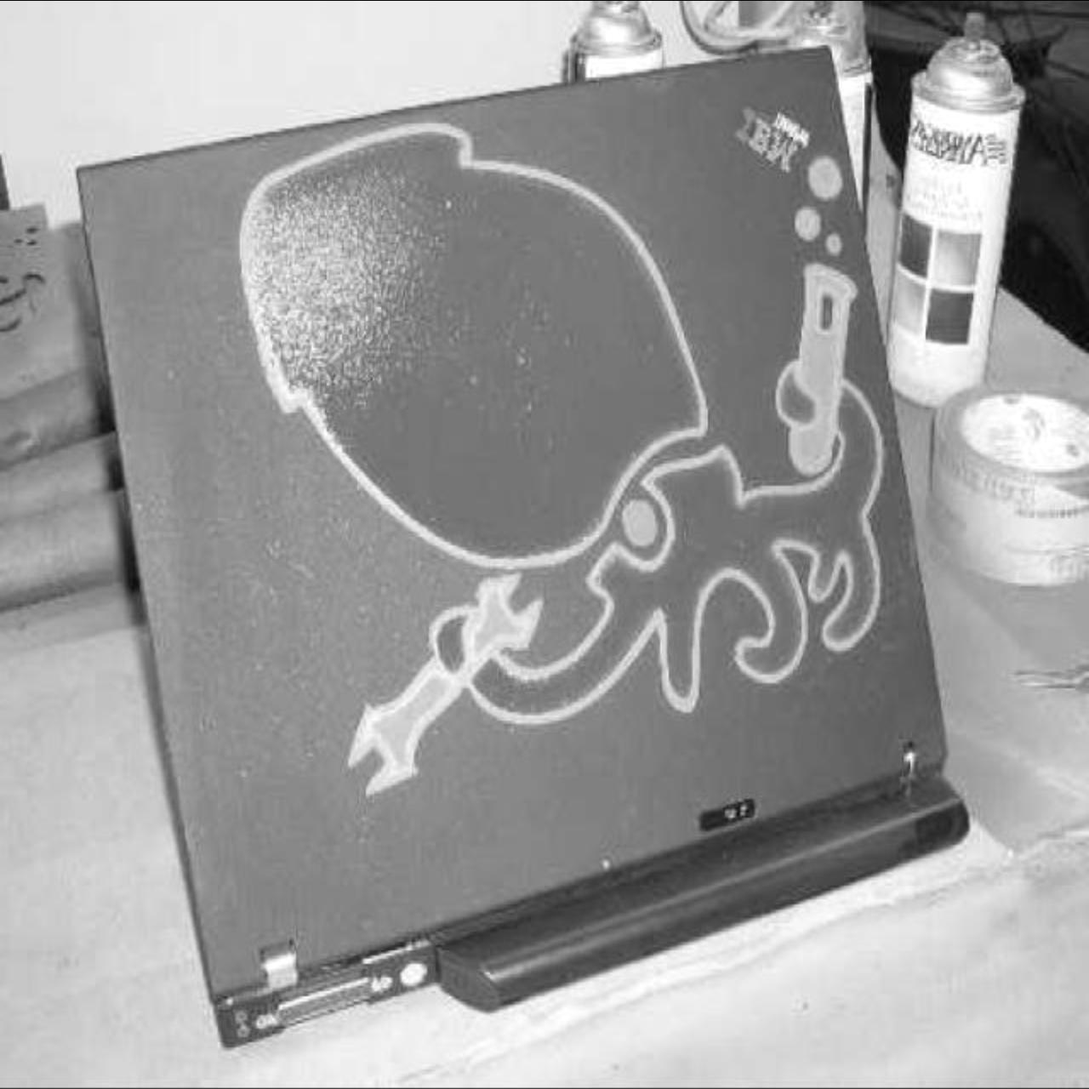laptop: (85, 41, 895, 1048)
